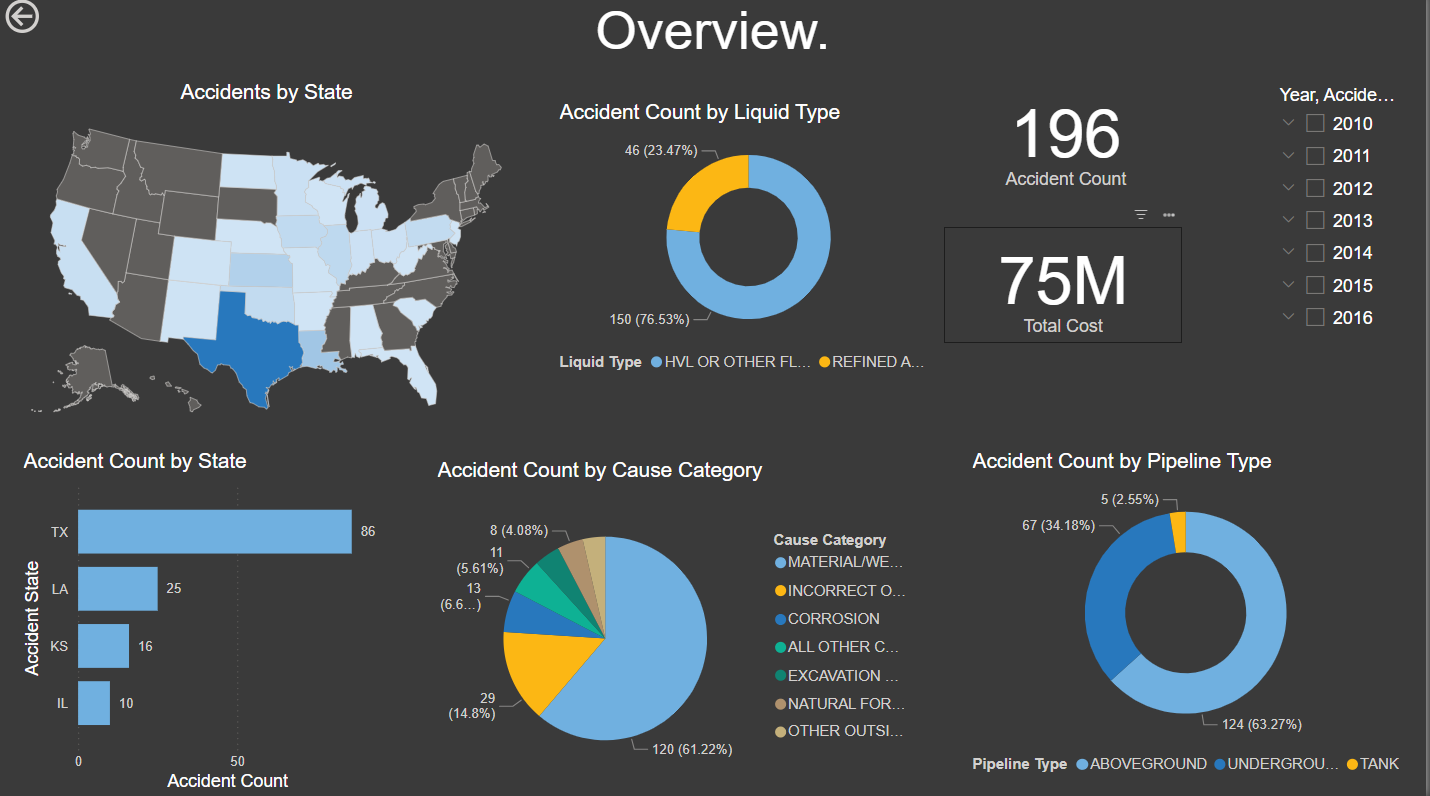

The page's visual inventory and layout, read from the dashboard file:
{"tool":"powerbi","page":{"name":"Page 1","canvas":[1280,720],"ordinal":0},"visuals":[{"type":"pieChart","fields":{"Category":["Data.Cause Category"],"Y":["Data.Accident Count"]},"box":[388.1,416.3,441.6,303.5],"z":0},{"type":"shapeMap","title":"Accidents by State","fields":{"Category":["Data.Accident State"],"Value":["Data.Accident Count"]},"box":[0,76.8,478.5,321],"z":1000},{"type":"textbox","box":[0,0,1280,76.8],"z":2000},{"type":"card","fields":{"Values":["Data.Accident Count"]},"box":[847.2,76.8,218.8,103.1],"z":3000},{"type":"slicer","fields":{"Values":["Data. Year","Data.Accident State","Data.Cause Category","Data.Pipeline Type"]},"box":[1136,76.8,144,283],"z":4000},{"type":"donutChart","fields":{"Y":["Data.Accident Count"],"Category":["Data.Liquid Type"]},"box":[497,95.3,350.2,254.8],"z":5000},{"type":"card","fields":{"Values":["Data.Total Cost"]},"box":[847.2,209.1,214,104.1],"z":6000},{"type":"actionButton","box":[0,0,100,40],"z":7000},{"type":"donutChart","fields":{"Category":["Data.Pipeline Type"],"Y":["Data.Accident Count"]},"box":[868.6,408.5,392.9,302.5],"z":8000},{"type":"barChart","title":"Accident Count by State","fields":{"Category":["Data.Accident State"],"Y":["Data.Accident Count"]},"box":[16.5,408.5,334.6,311.2],"z":9000}]}

Visuals, with their boxes in screenshot pixels (x1, y1, x2, y2), scaled from the page's 1280x720 canvas onto the 1430x796 screenshot:
pieChart - Data.Cause Category x Data.Accident Count: {"left": 434, "top": 460, "right": 927, "bottom": 795}
"Accidents by State" shapeMap: {"left": 0, "top": 85, "right": 535, "bottom": 440}
textbox: {"left": 0, "top": 0, "right": 1429, "bottom": 85}
card - Data.Accident Count: {"left": 946, "top": 85, "right": 1191, "bottom": 199}
slicer - Data. Year x Data.Accident State: {"left": 1269, "top": 85, "right": 1429, "bottom": 398}
donutChart - Data.Accident Count x Data.Liquid Type: {"left": 555, "top": 105, "right": 946, "bottom": 387}
card - Data.Total Cost: {"left": 946, "top": 231, "right": 1186, "bottom": 346}
actionButton: {"left": 0, "top": 0, "right": 112, "bottom": 44}
donutChart - Data.Pipeline Type x Data.Accident Count: {"left": 970, "top": 452, "right": 1409, "bottom": 786}
"Accident Count by State" barChart: {"left": 18, "top": 452, "right": 392, "bottom": 795}
